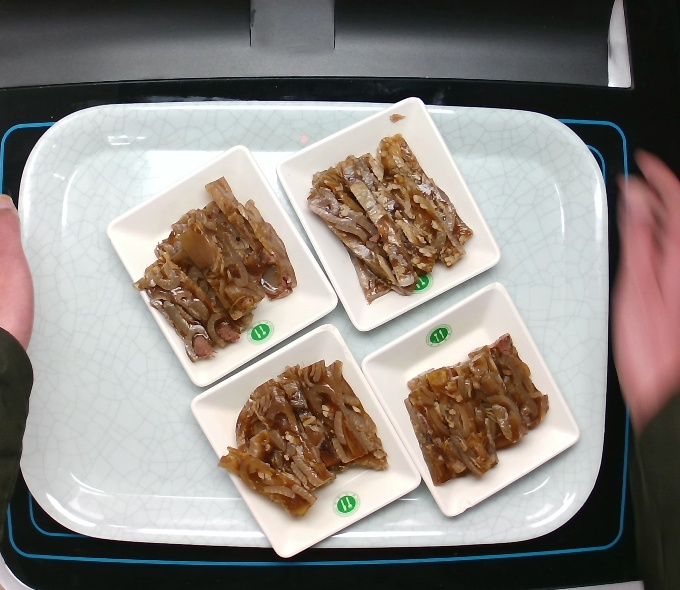wcq-DongZhuPi: (132, 175, 303, 366), (305, 132, 473, 308), (211, 357, 394, 515), (404, 331, 556, 490)
